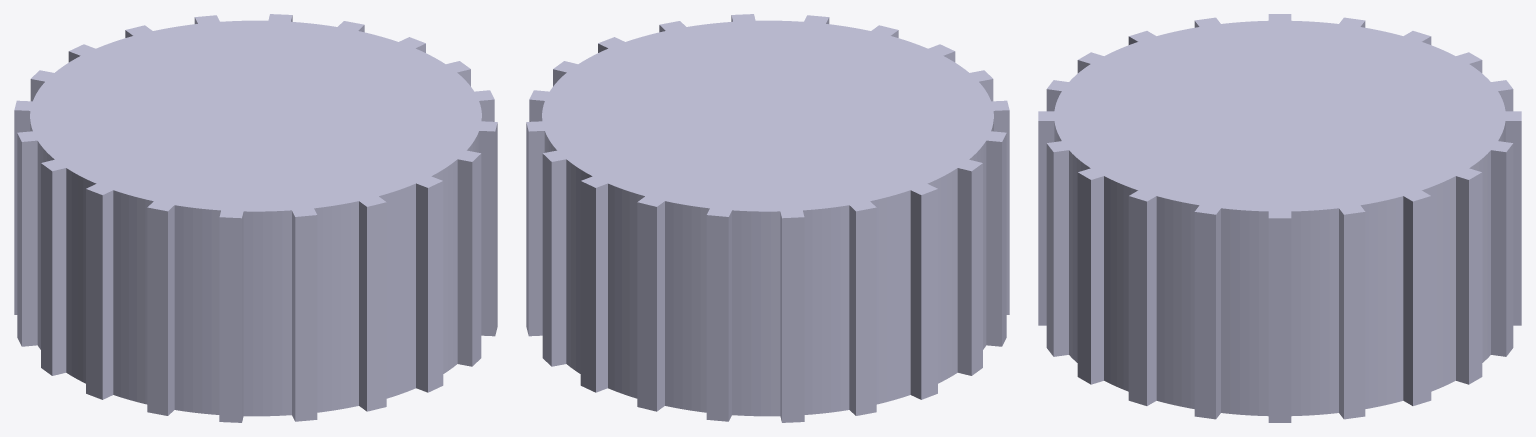
Rendered from first_robot_Body.dae.
3 views of the same model, side by side, from view 1: azimuth 30°, elevation 25°; view 2: azimuth 150°, elevation 25°; view 3: azimuth 270°, elevation 25° (orthographic).
Parts seen in each view (by area): view 1: node0; view 2: node0; view 3: node0.
Boxes of the visible parts, bbox=[...] form: node0: bbox=[14, 14, 497, 422]; node0: bbox=[526, 14, 1009, 422]; node0: bbox=[1038, 14, 1521, 422].
Bounding box in the file's own units: 0.214 × 0.214 × 0.1.
